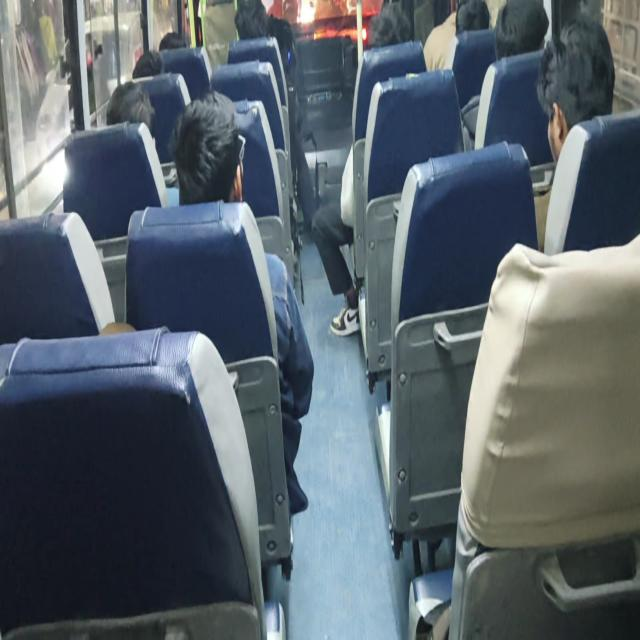person: (167, 90, 314, 515), (311, 2, 417, 337), (531, 12, 616, 250), (234, 0, 316, 233), (461, 0, 549, 149), (422, 0, 490, 72), (106, 80, 156, 136)
